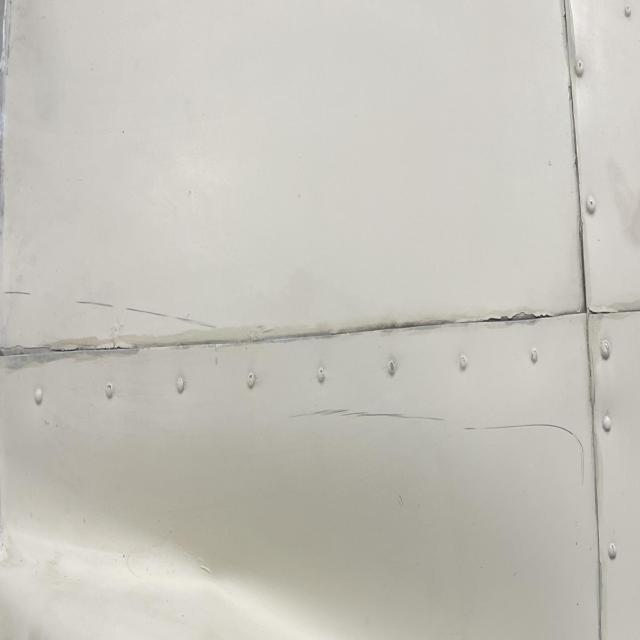Dent: (73, 491, 309, 640)
